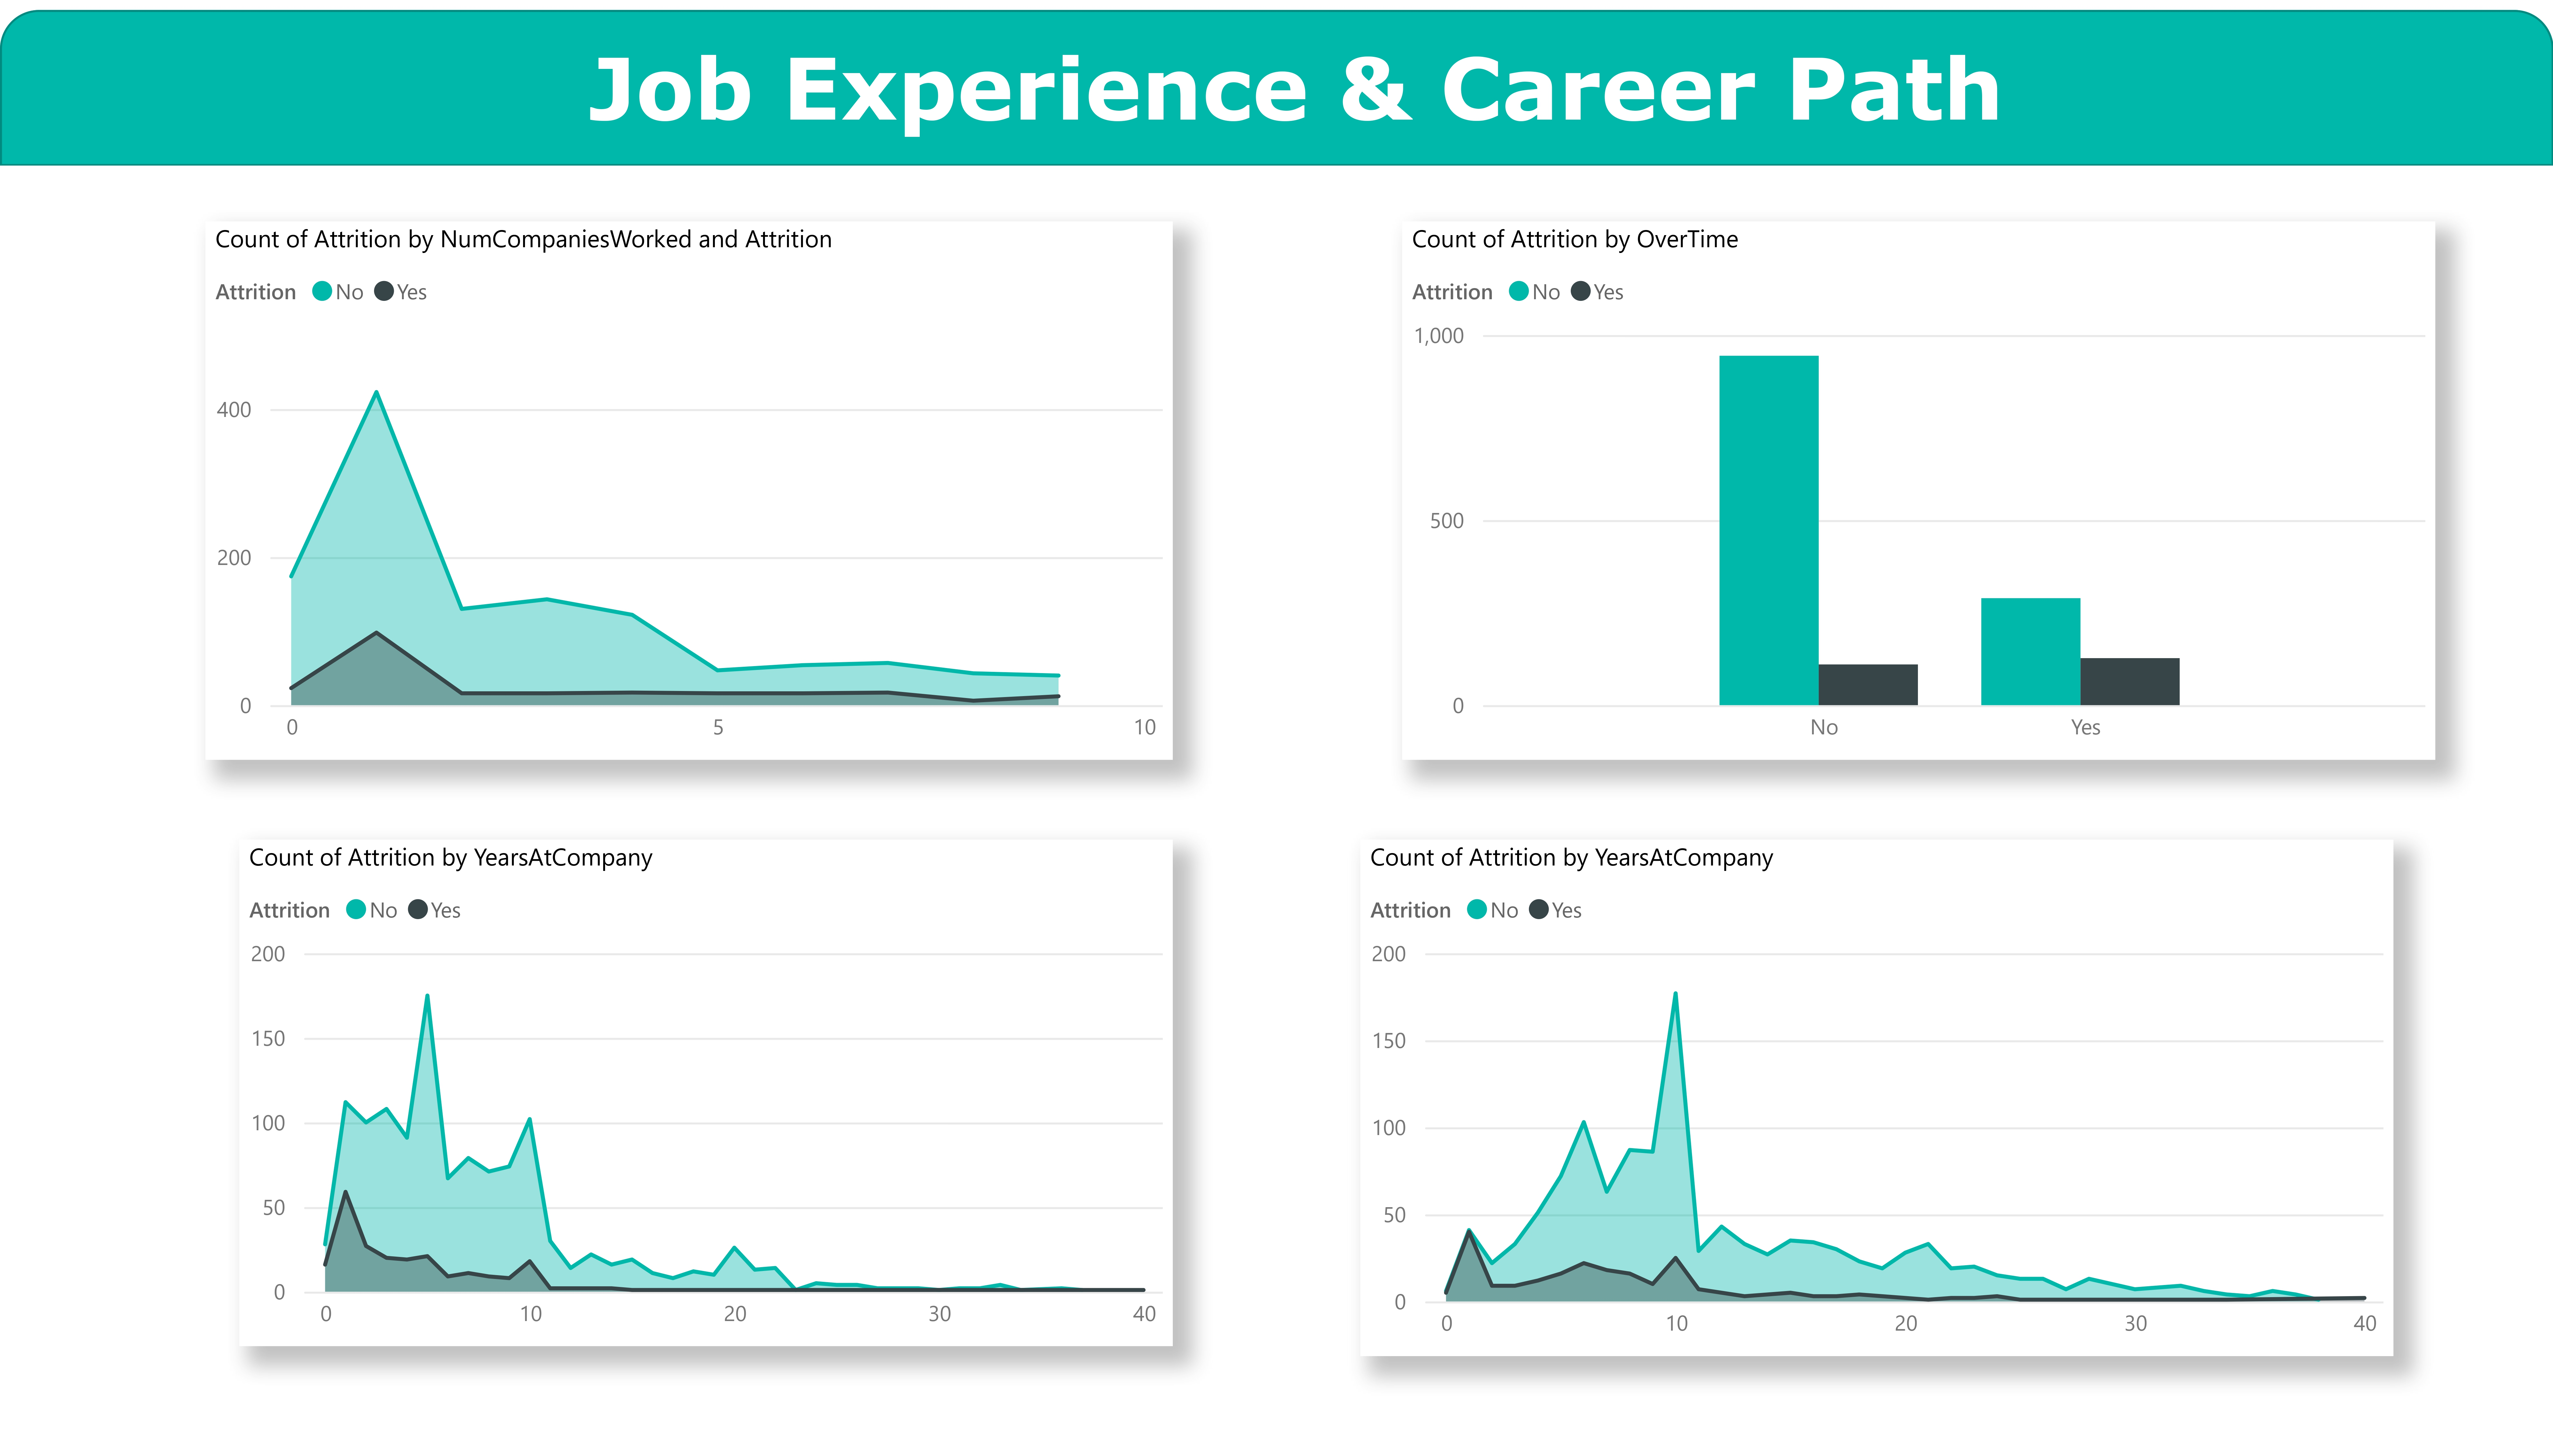

This screenshot's page, from the dashboard's own definition file:
{"tool":"powerbi","page":{"name":"Page 4","canvas":[1280,720],"ordinal":3},"visuals":[{"type":"areaChart","fields":{"Y":["CountNonNull(employee_attrition.Attrition)"],"Category":["employee_attrition.NumCompaniesWorked"],"Series":["employee_attrition.Attrition"]},"box":[77,108.8,525.8,306.9],"z":0},{"type":"areaChart","fields":{"Y":["CountNonNull(employee_attrition.Attrition)"],"Category":["employee_attrition.YearsAtCompany"],"Series":["employee_attrition.Attrition"]},"box":[68.5,415.8,507.5,304.5],"z":1000},{"type":"areaChart","fields":{"Y":["CountNonNull(employee_attrition.Attrition)"],"Category":["employee_attrition.TotalWorkingYears"],"Series":["employee_attrition.Attrition"]},"box":[639.5,454.9,561.3,265.4],"z":2000},{"type":"clusteredColumnChart","fields":{"Category":["employee_attrition.OverTime"],"Y":["CountNonNull(employee_attrition.Attrition)"],"Series":["employee_attrition.Attrition"]},"box":[639.5,108.8,561.3,330.2],"z":3000},{"type":"shape","box":[0,0,1280.3,78.2],"z":4000},{"type":"textbox","box":[289.8,7.3,801,70.9],"z":5000}]}

Visuals, with their boxes in screenshot pixels (x1, y1, x2, y2), scaled from the page's 1280x720 canvas onto the 2553x1456 screenshot:
areaChart - CountNonNull(employee_attrition.Attrition) x employee_attrition.NumCompaniesWorked: detection(153, 220, 1202, 841)
areaChart - CountNonNull(employee_attrition.Attrition) x employee_attrition.YearsAtCompany: detection(137, 841, 1149, 1456)
areaChart - CountNonNull(employee_attrition.Attrition) x employee_attrition.TotalWorkingYears: detection(1276, 920, 2395, 1456)
clusteredColumnChart - employee_attrition.OverTime x CountNonNull(employee_attrition.Attrition): detection(1276, 220, 2395, 888)
shape: detection(0, 0, 2553, 158)
textbox: detection(578, 15, 2176, 158)
